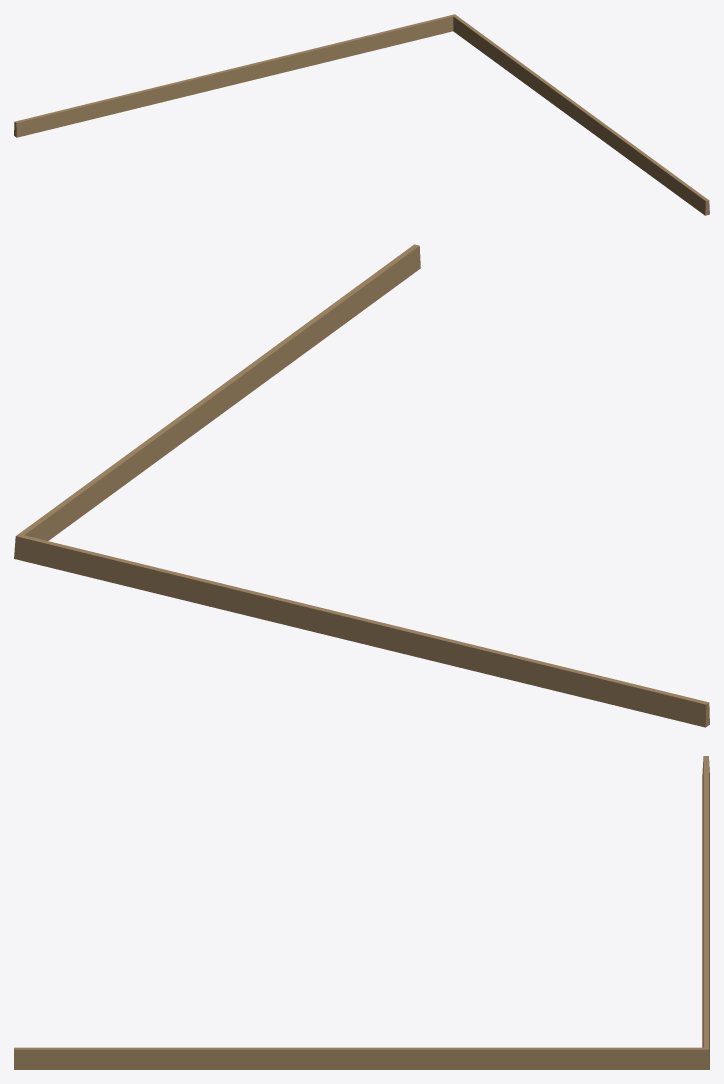
The model's file is enclosure-L-LOD2.glb.
3 renders of one model, top to bottom at view 1: azimuth 30°, elevation 25°; view 2: azimuth 150°, elevation 25°; view 3: azimuth 270°, elevation 25°, orthographic. The views are drawn at different scales.
Parts seen in each view (by area): view 1: biyong-enclosure-L-static_earth; view 2: biyong-enclosure-L-static_earth; view 3: biyong-enclosure-L-static_earth.
Part boxes in pixels (<box>): biyong-enclosure-L-static_earth: <box>14,14,709,215</box>; biyong-enclosure-L-static_earth: <box>14,244,709,727</box>; biyong-enclosure-L-static_earth: <box>14,756,709,1069</box>.
Size of the model in its own units: 64.35 by 2 by 64.35.
